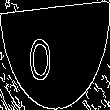O_N: (43, 27, 67, 83)
